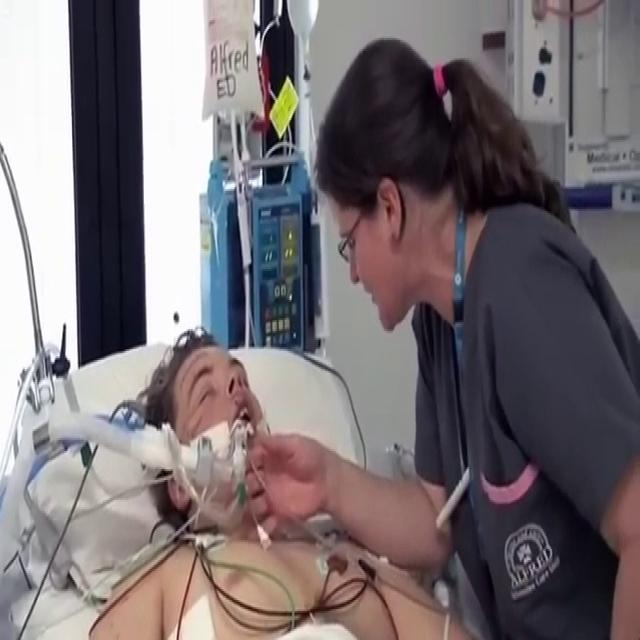monitor: (250, 187, 305, 351)
nurse: (245, 35, 639, 638)
patient: (86, 326, 479, 638)
